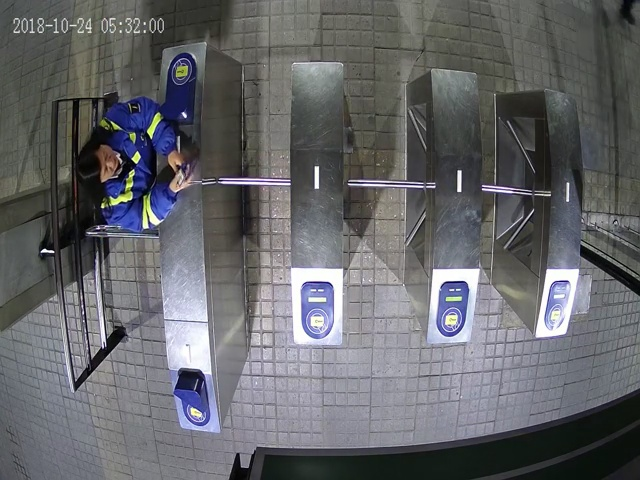Chaleco_azul: (75, 95, 199, 235)
